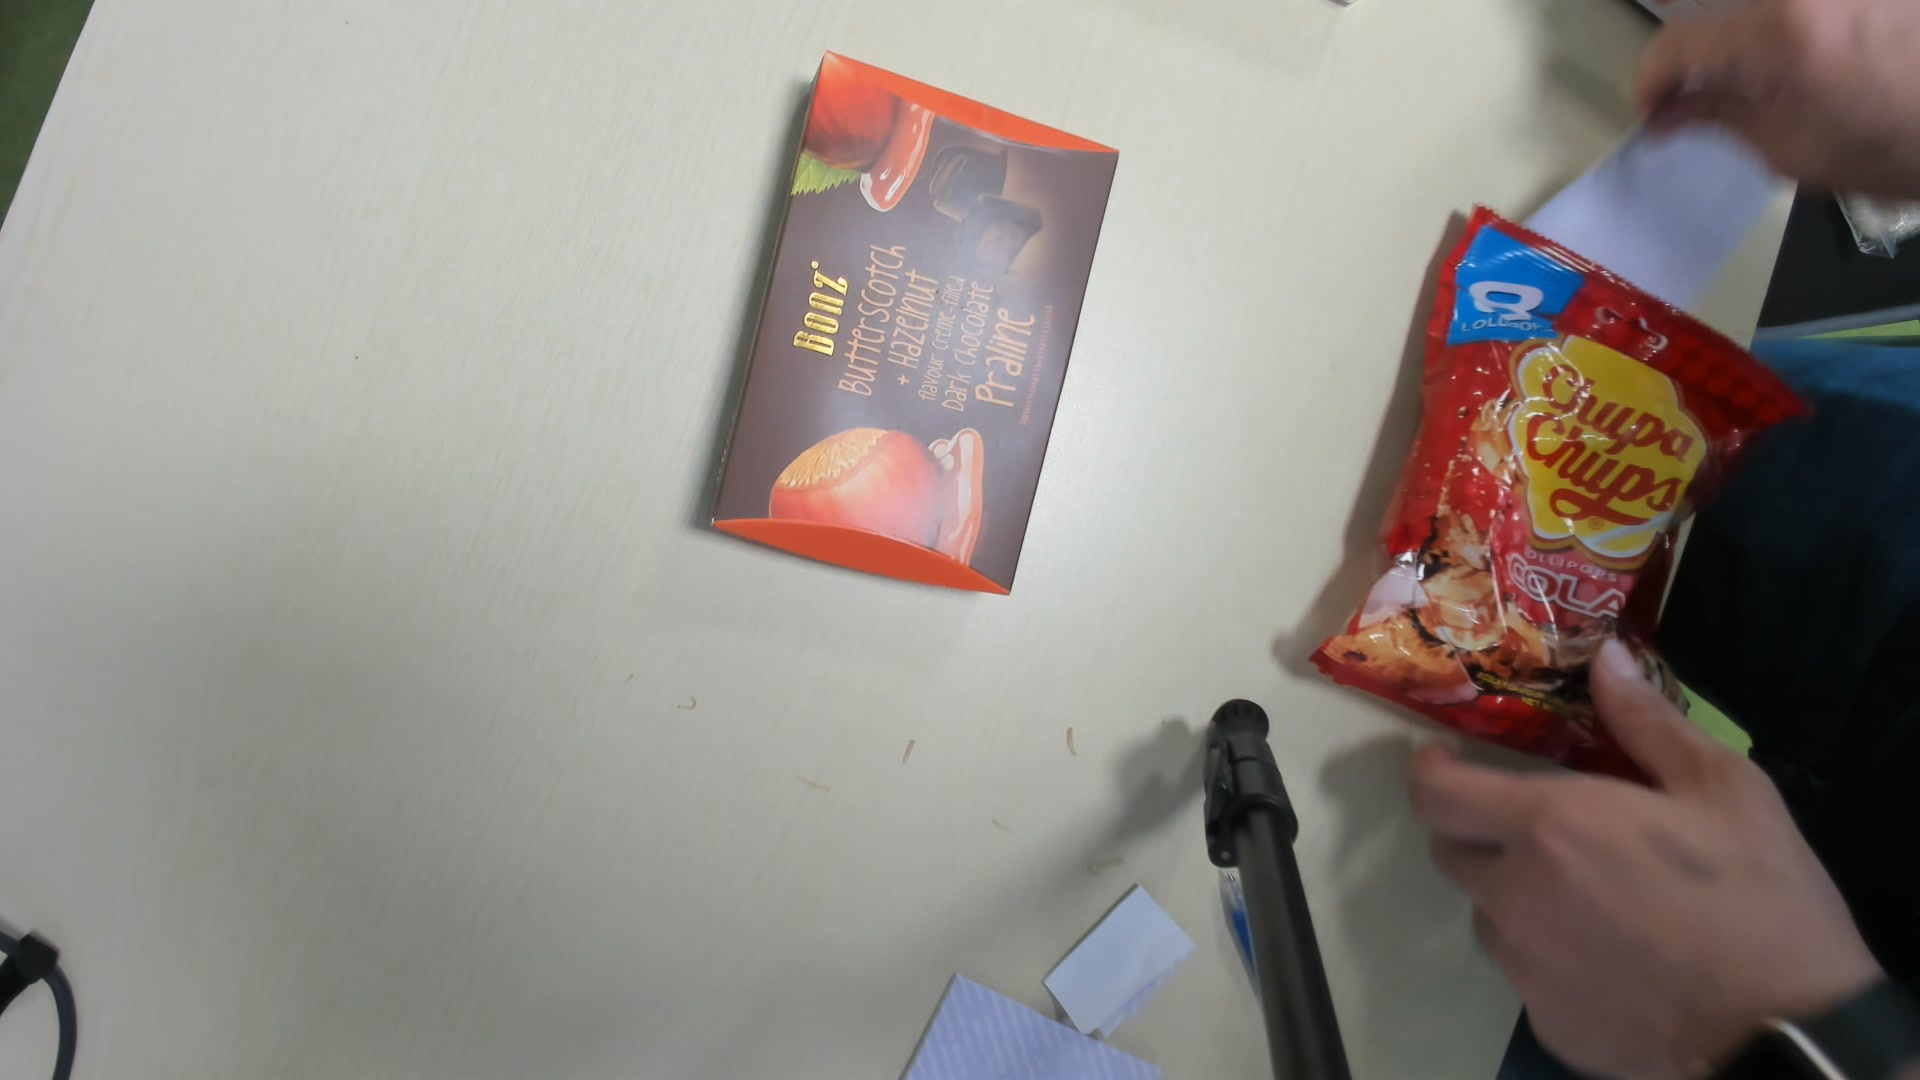SweetsChocolatesOthers_0-99g_NonHalal_Nonhealthy: (707, 49, 1116, 589)
